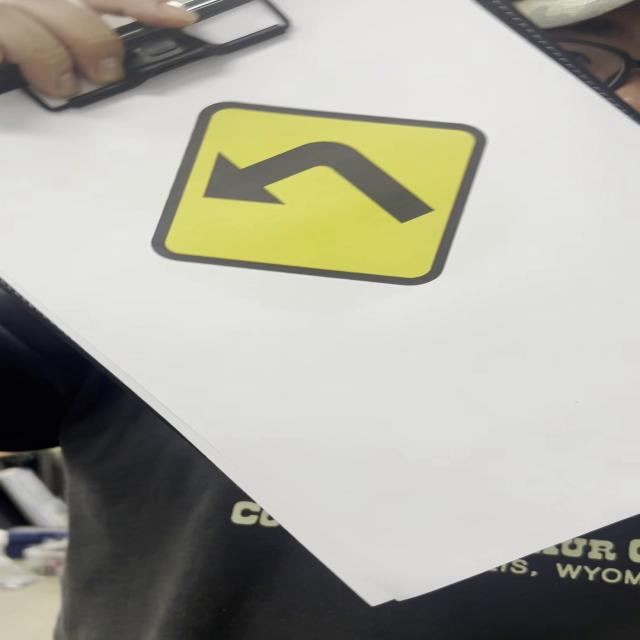left: (153, 102, 487, 288)
